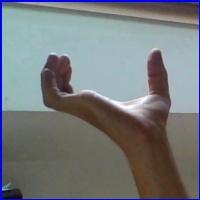B: (34, 42, 183, 147)
